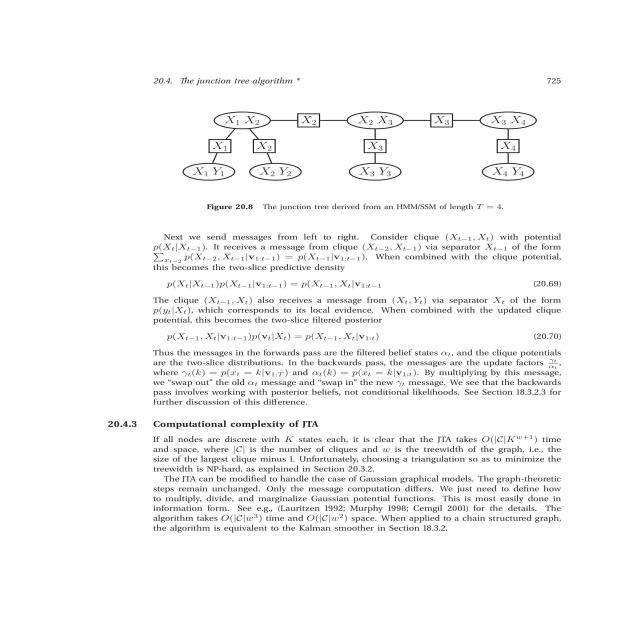diagram: (115, 97, 600, 233)
